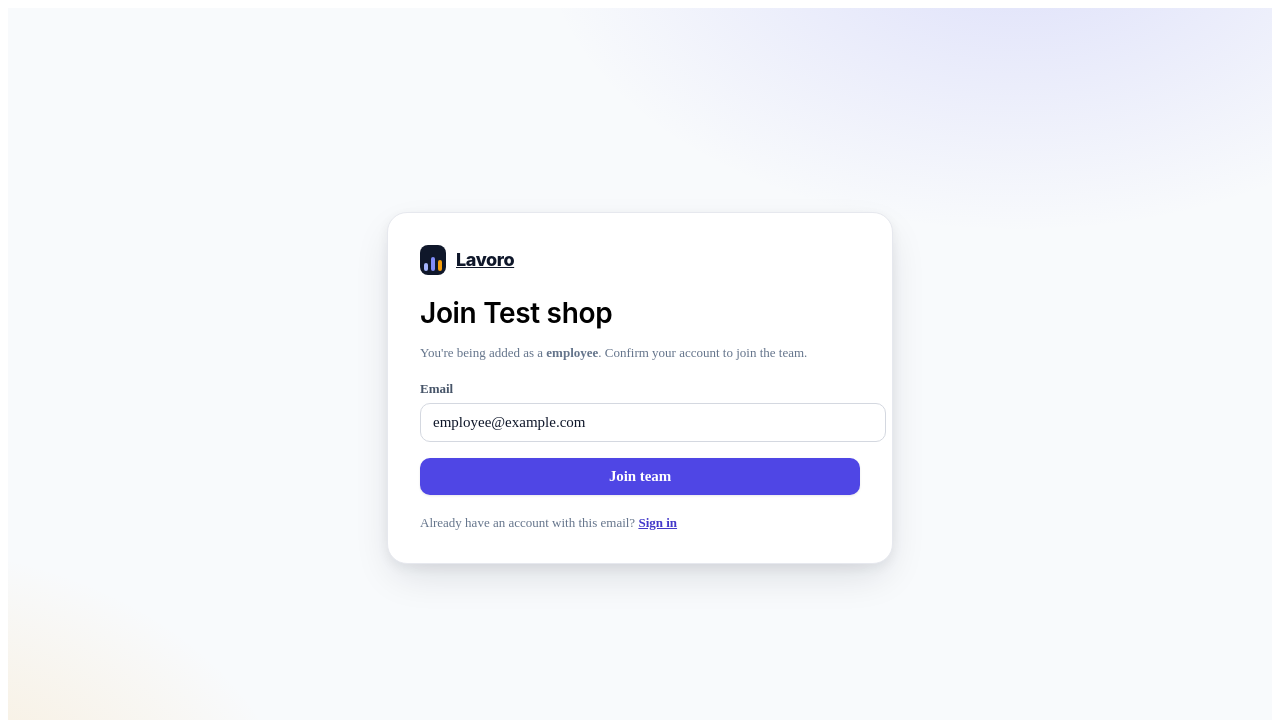
it: employee invitation onboarding › shows acceptance failures without redirecting or hiding them
The width and height of the screenshot is (1280, 720).
Expected: the heading "Join Test shop" is shown, [420, 296, 612, 330]
Step 1. Click the button "Join team" → coordinates (640, 476), box [420, 458, 860, 495]
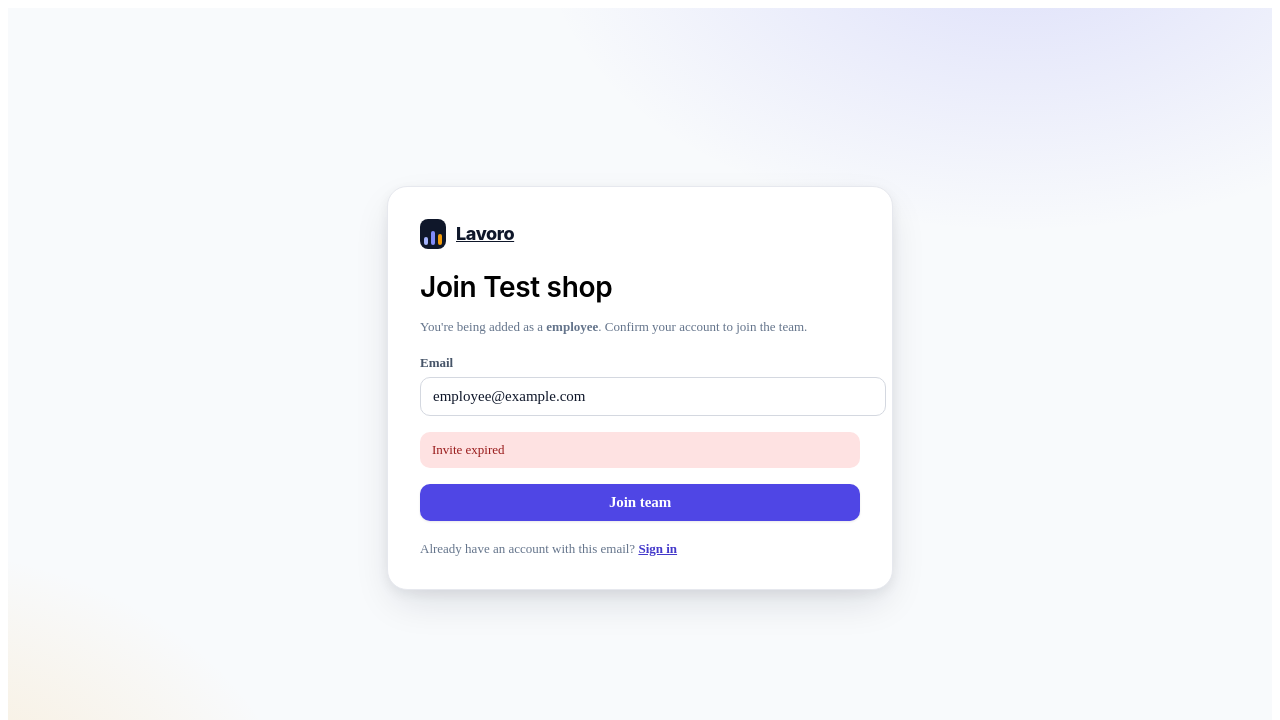
Result: the text "Invite expired" is shown at [420, 432, 860, 468]
